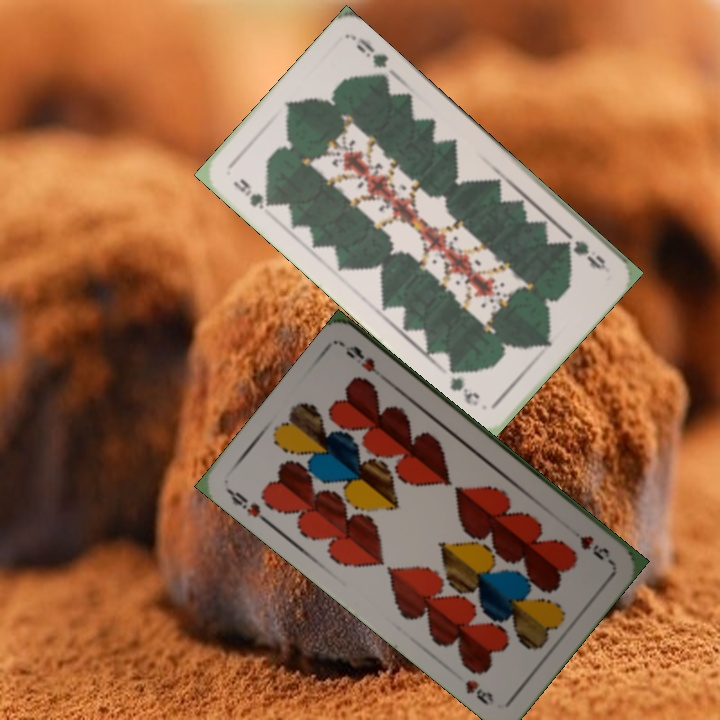G9: (559, 229, 610, 275), (229, 174, 278, 212)
H9: (223, 485, 273, 528), (575, 531, 615, 567)
